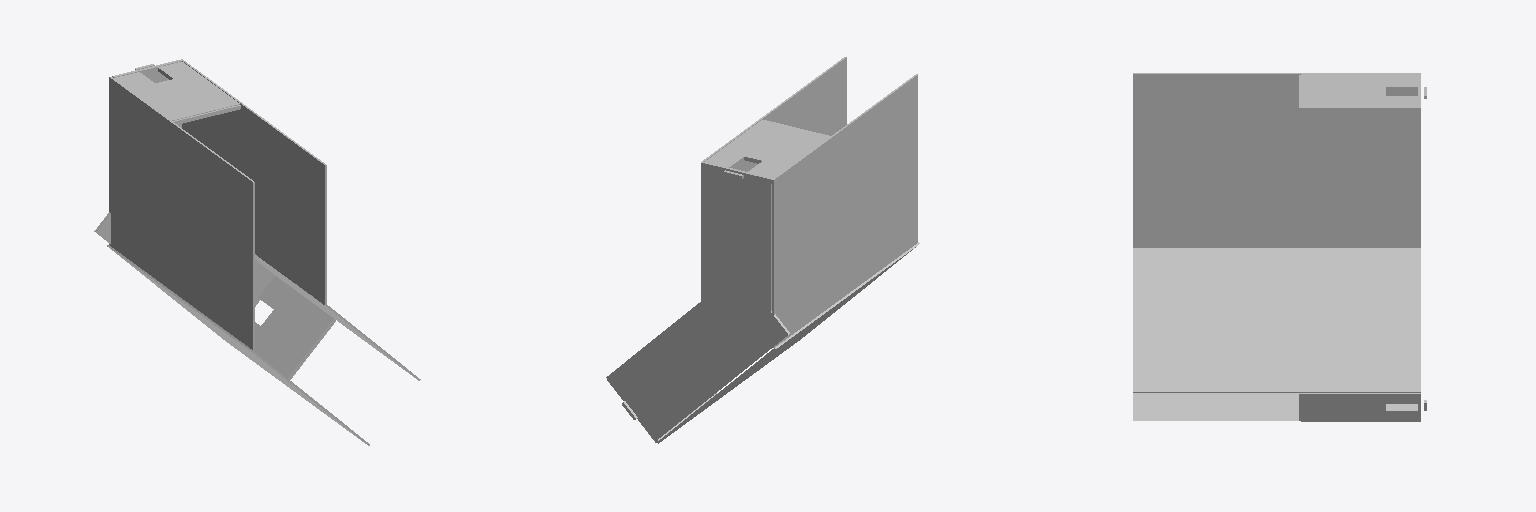
Rendered from room.obj.
The picture shows the model from 3 angles: view 1: azimuth 30°, elevation 25°; view 2: azimuth 150°, elevation 25°; view 3: azimuth 270°, elevation 25°; orthographic projection.
Parts seen in each view (by area): view 1: obj_0, obj_2, obj_1; view 2: obj_0, obj_2; view 3: obj_0.
Part boxes in pixels (x1,y1,x2,y2): obj_0: (107,59,420,445); obj_2: (94,60,274,304); obj_1: (173,105,335,379); obj_0: (606,57,919,443); obj_2: (608,162,789,439); obj_0: (1133,73,1420,421).
Bounding box in the file's own units: 299 × 458 × 419.